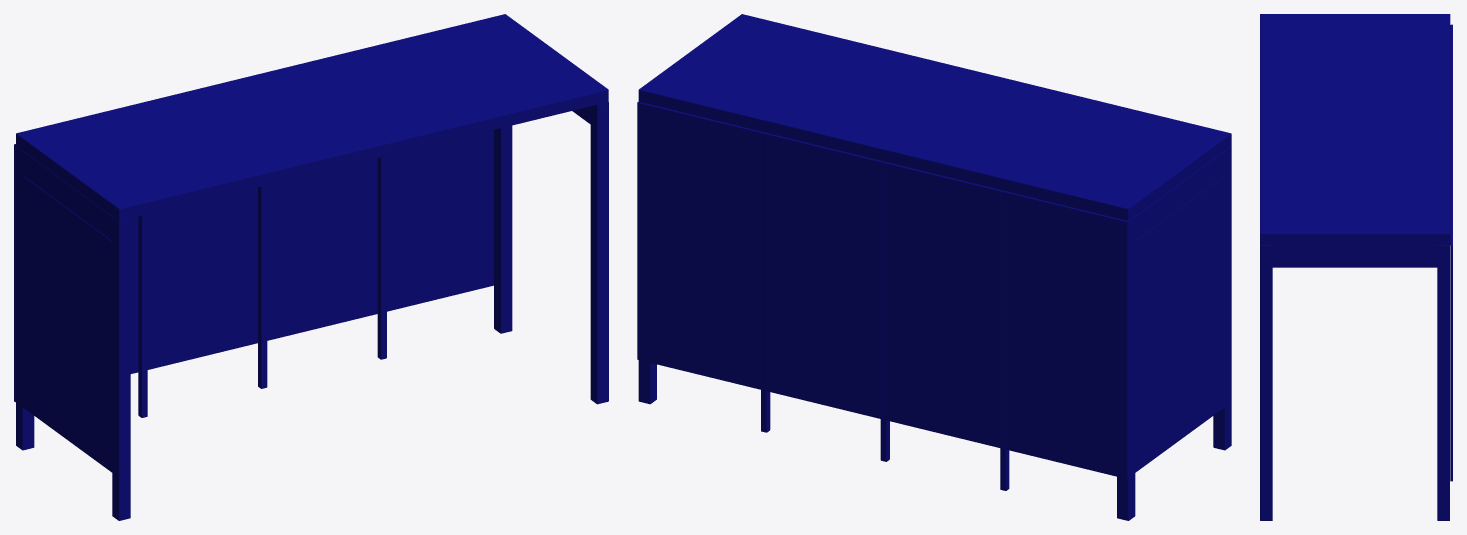
File: statie B01.obj
The picture shows the model from 3 angles, left to right: view 1: azimuth 30°, elevation 25°; view 2: azimuth 150°, elevation 25°; view 3: azimuth 270°, elevation 25°; orthographic projection. The views are drawn at different scales.
Parts seen in each view (by area): view 1: Box02, Object14, Box14, Box13, Box18; view 2: Object14, Box02, Box13, Box14, Box18; view 3: Box02, Box14, Box18, Object14.
Boxes of the visible parts, x1,y1,x2,y2 form: Box02: (16, 14, 608, 221); Object14: (14, 130, 493, 402); Box14: (16, 102, 608, 520); Box13: (22, 176, 112, 472); Box18: (22, 106, 590, 240); Object14: (637, 101, 1128, 478); Box02: (638, 14, 1231, 220); Box13: (1135, 175, 1225, 472); Box14: (638, 146, 1231, 520); Box18: (1135, 151, 1224, 240); Box02: (1260, 14, 1450, 245); Box14: (1260, 245, 1449, 520); Box18: (1272, 245, 1437, 267); Object14: (1450, 24, 1452, 481).
Bounding box in the file's own units: 410 × 250 × 152.
